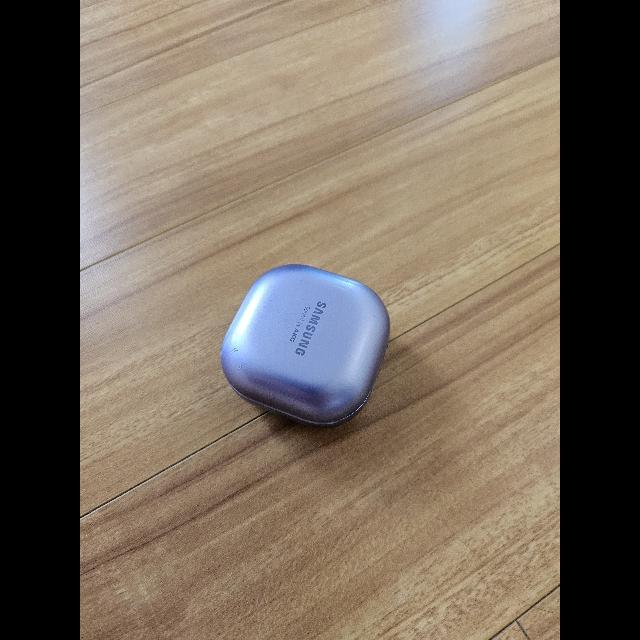buds-pro: (218, 260, 394, 430)
